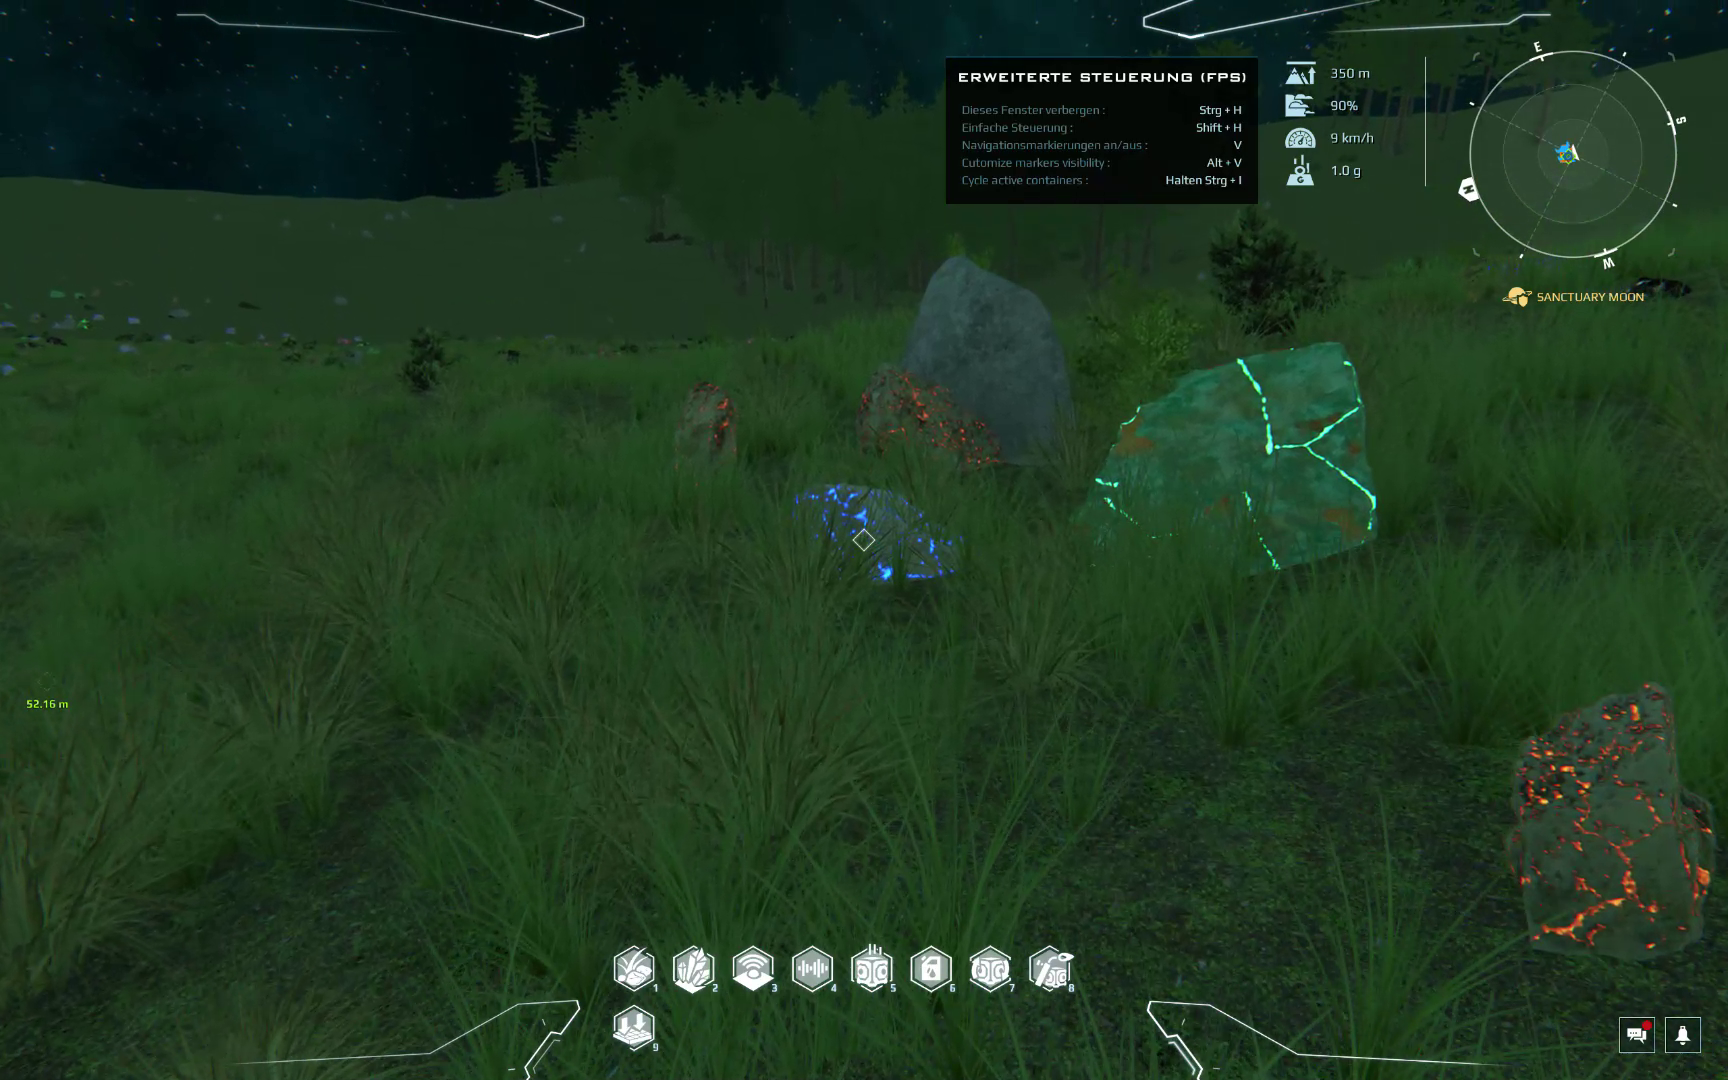Ore: (1072, 338, 1382, 590), (1500, 677, 1716, 963), (775, 475, 979, 594), (845, 360, 1011, 474), (664, 376, 746, 478)
